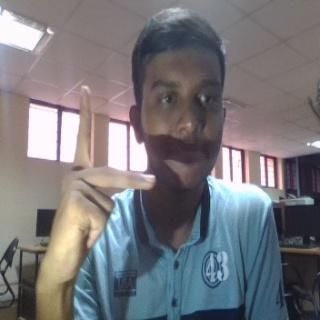Okay: (40, 84, 157, 289)
